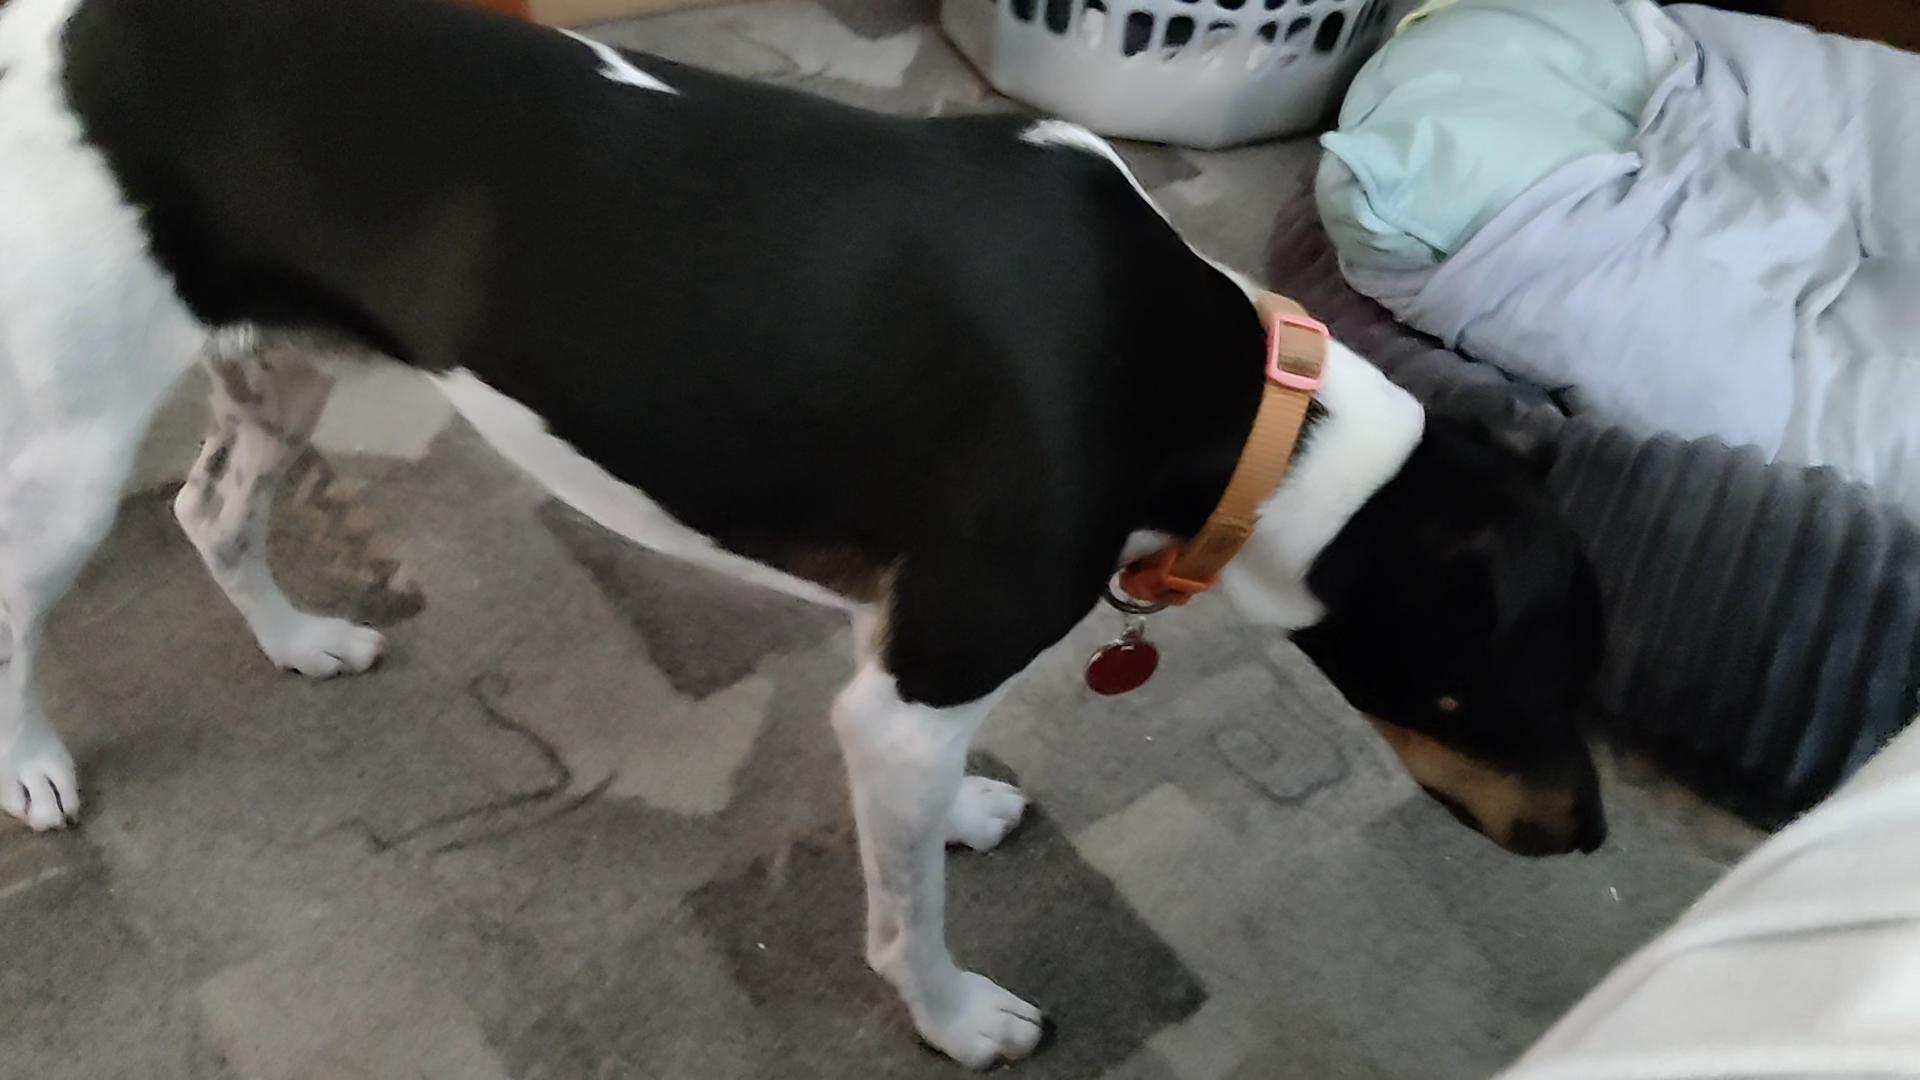Dog: (0, 0, 1627, 1080)
